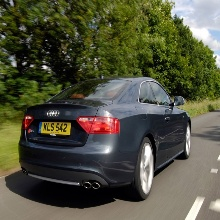no damage: (19, 77, 192, 200)
